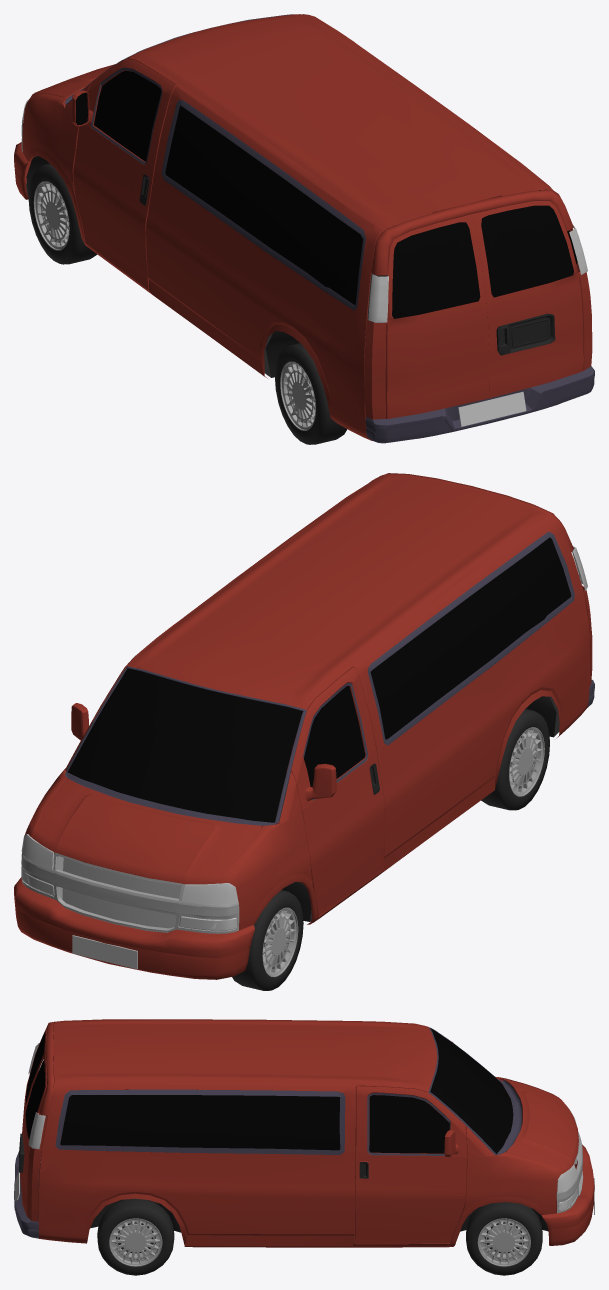
File: minivan.glb
The picture shows the model from 3 angles, top to bottom: view 1: azimuth 30°, elevation 25°; view 2: azimuth 150°, elevation 25°; view 3: azimuth 270°, elevation 25°; orthographic projection. The views are drawn at different scales.
Parts seen in each view (by area): view 1: minivan_car, minivan_back_left, minivan_front_left, License Plate; view 2: minivan_car, minivan_front_left, minivan_back_left, License Plate, Light_01_Front_Left, Light_01_Front_Right; view 3: minivan_car, minivan_back_right, minivan_front_right.
Boxes of the visible parts, box(x1,y1,x2,y2) form: minivan_car: box(14, 14, 594, 443); minivan_back_left: box(275, 343, 347, 444); minivan_front_left: box(28, 163, 97, 264); License Plate: box(458, 391, 526, 426); minivan_car: box(14, 473, 594, 979); minivan_front_left: box(232, 890, 303, 990); minivan_back_left: box(481, 708, 549, 810); License Plate: box(72, 935, 137, 969); Light_01_Front_Left: box(181, 883, 238, 904); Light_01_Front_Right: box(21, 834, 53, 869); minivan_car: box(14, 1019, 594, 1247); minivan_back_right: box(97, 1198, 174, 1275); minivan_front_right: box(466, 1202, 542, 1275).
Bounding box in the file's own units: 2.36 × 2.17 × 6.03.
